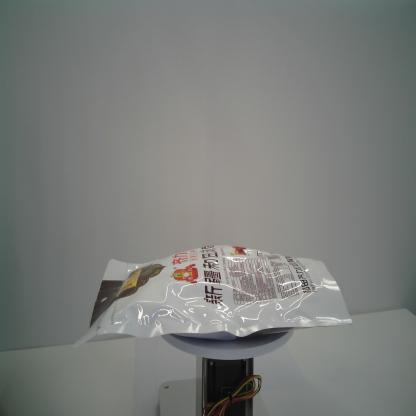Dried Food: (75, 244, 352, 347)
